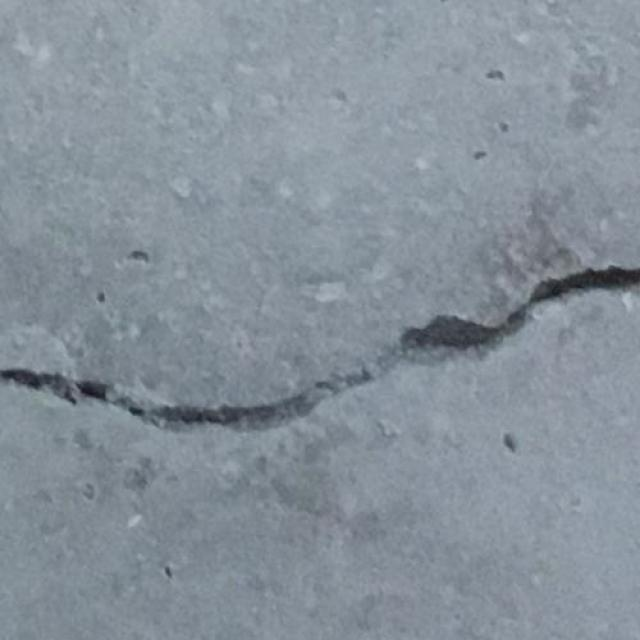horizontal crack: (0, 248, 640, 475)
